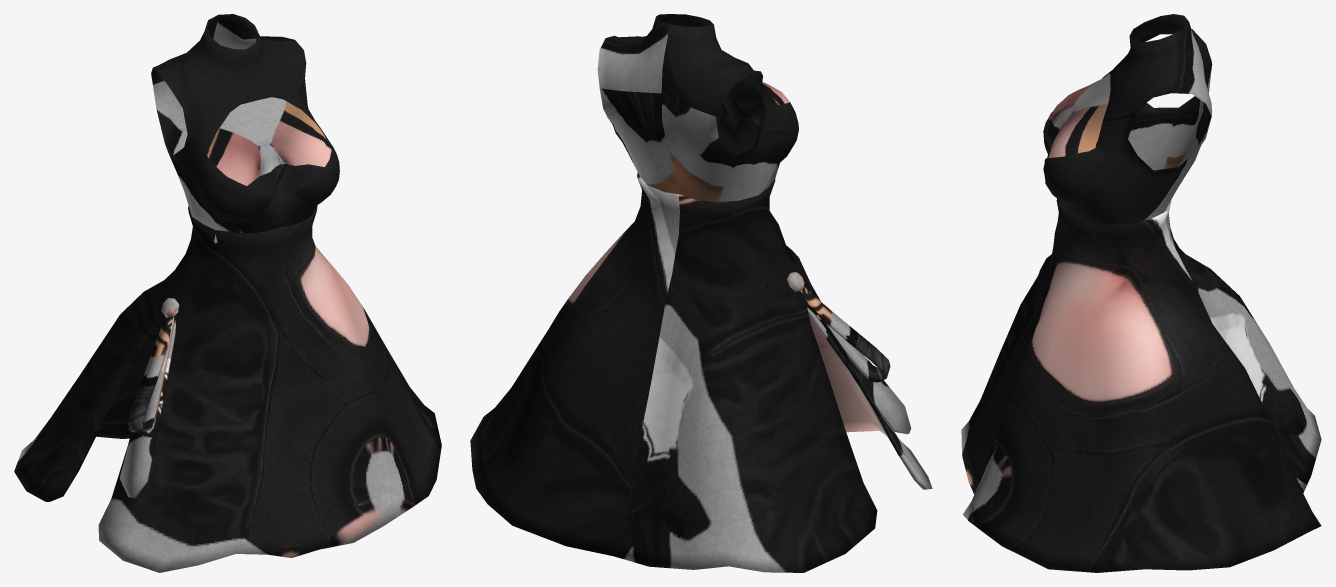
The model's file is body.obj.
3 views of the same model, side by side, from view 1: azimuth 30°, elevation 25°; view 2: azimuth 150°, elevation 25°; view 3: azimuth 270°, elevation 25° (orthographic). The views are drawn at different scales.
Parts seen in each view (by area): view 1: polySurface7 Nier2b:Cube, Nier2b:Cube polySurface55 polySurface53 polySurface51 polySurfac, Nier2b:Cube polySurface11, Nier2b:Cube polySurface8, Nier2b:Cube polySurface10; view 2: polySurface7 Nier2b:Cube, Nier2b:Cube polySurface55 polySurface53 polySurface51 polySurfac, Nier2b:Cube polySurface8, Nier2b:Cube polySurface10; view 3: polySurface7 Nier2b:Cube, Nier2b:Cube polySurface55 polySurface53 polySurface51 polySurfac, Nier2b:Cube polySurface11.
Boxes of the visible parts, x1,y1,x2,y2 form: polySurface7 Nier2b:Cube: (14, 205, 441, 572); Nier2b:Cube polySurface55 polySurface53 polySurface51 polySurfac: (151, 14, 339, 243); Nier2b:Cube polySurface11: (207, 97, 331, 185); Nier2b:Cube polySurface8: (128, 316, 174, 433); Nier2b:Cube polySurface10: (119, 320, 175, 497); polySurface7 Nier2b:Cube: (470, 172, 932, 572); Nier2b:Cube polySurface55 polySurface53 polySurface51 polySurfac: (597, 14, 798, 202); Nier2b:Cube polySurface8: (800, 286, 890, 382); Nier2b:Cube polySurface10: (807, 307, 911, 434); polySurface7 Nier2b:Cube: (961, 199, 1321, 572); Nier2b:Cube polySurface55 polySurface53 polySurface51 polySurfac: (1043, 14, 1212, 237); Nier2b:Cube polySurface11: (1048, 73, 1110, 158).
Bounding box in the file's own units: 14.63 × 17.03 × 11.59.
1 material, 1 textured.
